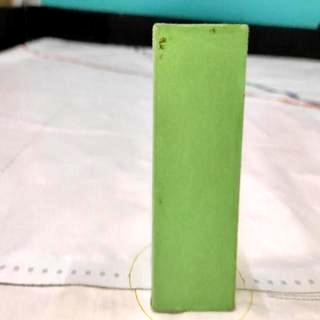greenbox: (152, 22, 248, 312)
